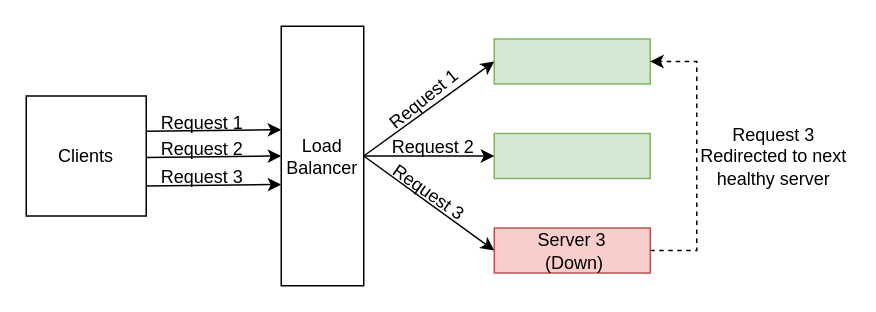
This 876x312 diagram has some shape labels left out. The centre of each missing label's shape, as x and y in pixels:
Server 1: (571,61)
Server 2: (571,155)
